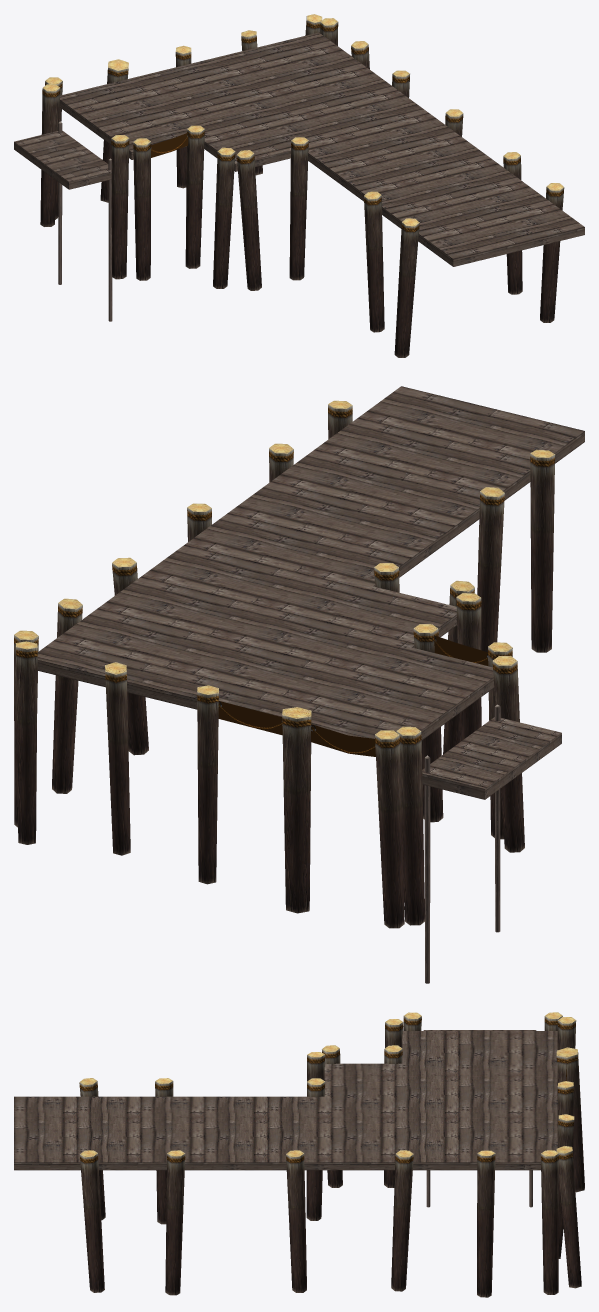
The model's file is wetlandshumandock01.obj.
3 renders of one model, top to bottom at view 1: azimuth 30°, elevation 25°; view 2: azimuth 150°, elevation 25°; view 3: azimuth 270°, elevation 25°, orthographic. The views are drawn at different scales.
Parts seen in each view (by area): view 1: docks; view 2: docks; view 3: docks.
Part boxes in pixels (bbox=[...]): docks: bbox=[14, 14, 584, 357]; docks: bbox=[14, 386, 584, 983]; docks: bbox=[14, 1012, 584, 1297].
Bounding box in the file's own units: 49.35 × 26.63 × 71.47.
Materials: 6 (6 with a texture image).
